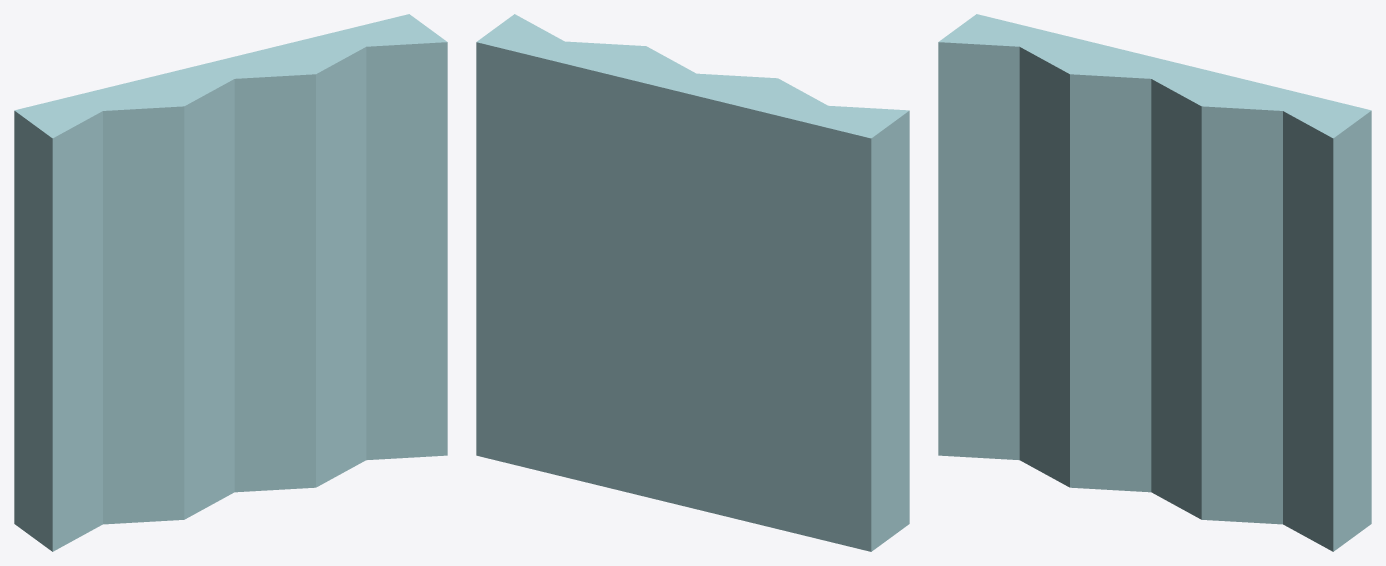
File: cliff_stone.dae
3 renders of one model, left to right at view 1: azimuth 30°, elevation 25°; view 2: azimuth 150°, elevation 25°; view 3: azimuth 330°, elevation 25°, orthographic.
Parts seen in each view (by area): view 1: cliff_stone; view 2: cliff_stone; view 3: cliff_stone.
Part boxes in pixels (box(x1,y1,x2,y2)): cliff_stone: box(14, 14, 447, 551); cliff_stone: box(476, 14, 909, 551); cliff_stone: box(938, 14, 1371, 551).
Size of the model in its own units: 1 by 1 by 0.1685.
